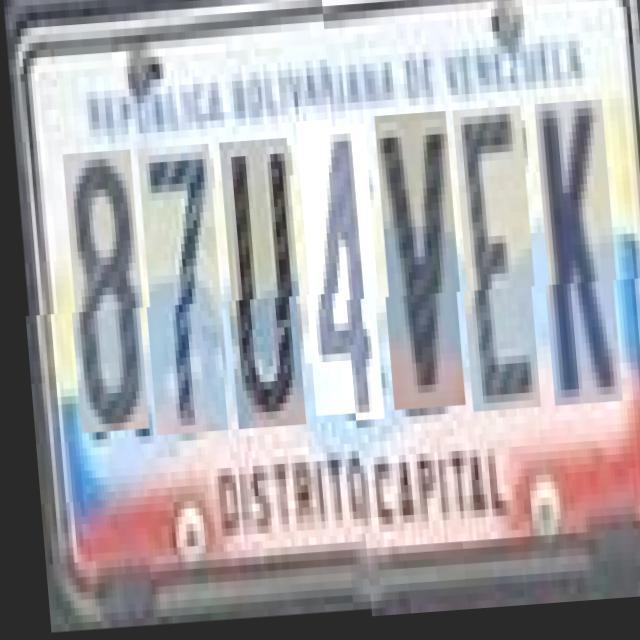4: (294, 130, 380, 428)
7: (136, 154, 224, 444)
8: (61, 159, 146, 441)
E: (450, 114, 537, 418)
K: (532, 109, 619, 414)
U: (217, 150, 303, 440)
V: (372, 118, 462, 416)
